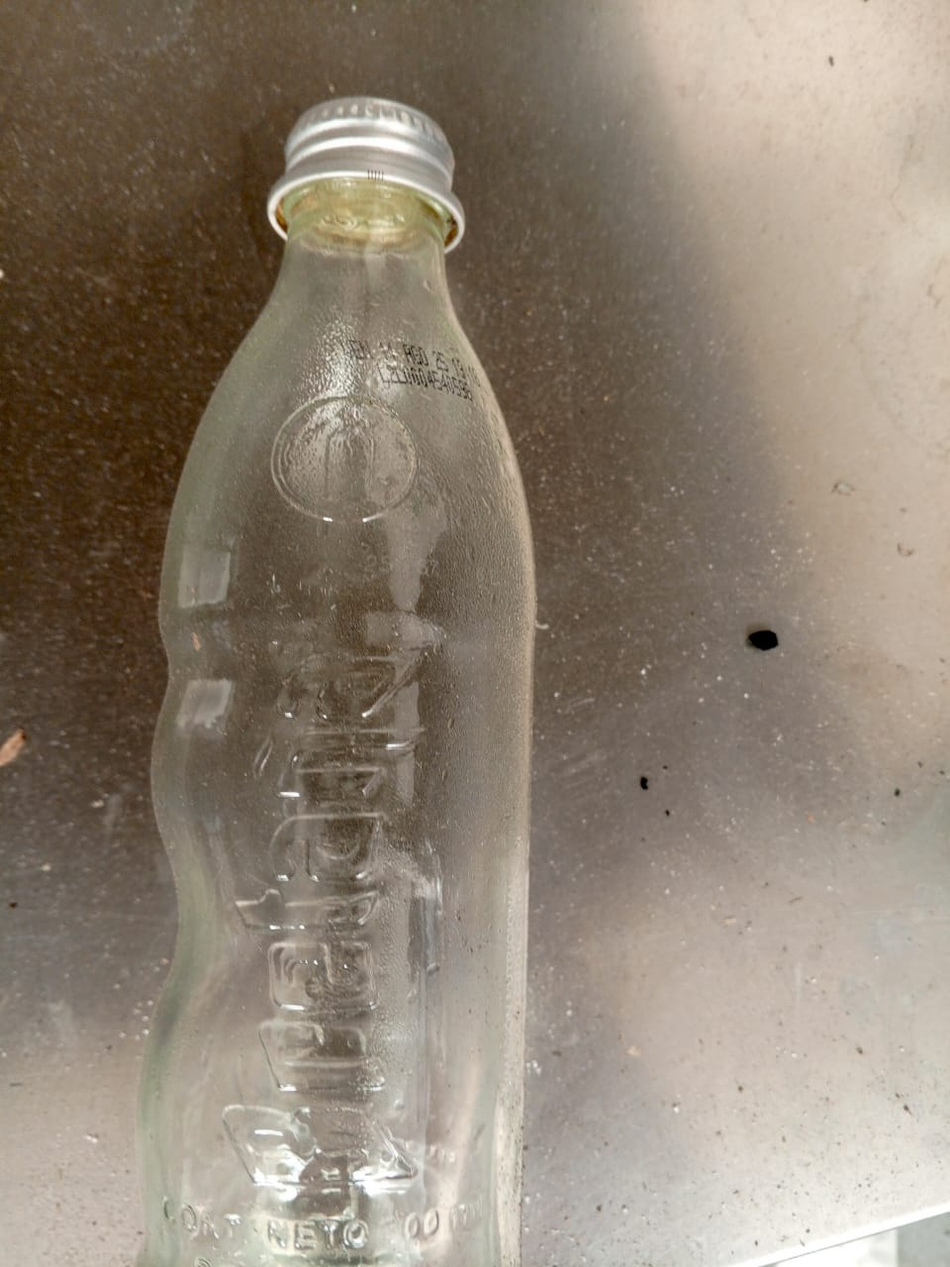Metal: (277, 101, 458, 186)
Vidrio: (148, 186, 537, 1267)
